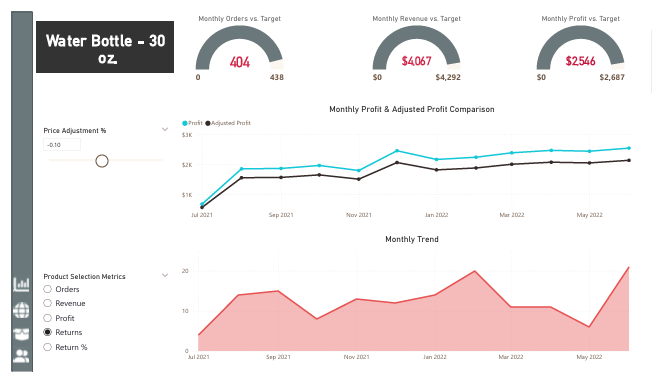

The dashboard page shown, as its layout file describes it:
{"tool":"powerbi","page":{"name":"Product Details","canvas":[1280,720],"ordinal":2},"visuals":[{"type":"areaChart","title":"Monthly Trend","fields":{"Y":["_Measure Table.Total Returns"],"Category":["Calendar Lookup.Start of Month"]},"box":[335.5,444.5,930,263.6],"z":0},{"type":"slicer","fields":{"Values":["Product Selection Metrics.Product Selection Metrics"]},"box":[50,516.4,274.5,191.8],"z":1000},{"type":"card","fields":{"Values":["Min(Product Lookup.Product Name)"]},"box":[50,20,274.5,102.7],"z":2000},{"type":"shape","box":[0,0,41,720],"z":3000},{"type":"gauge","title":"Monthly Orders vs. Target","fields":{"Y":["_Measure Table.Total Orders"],"MaxValue":["_Measure Table.Target Orders"]},"box":[335.5,6.4,240.9,144.5],"z":4000},{"type":"gauge","title":"Monthly Revenue vs. Target","fields":{"MaxValue":["_Measure Table.Target Revenue"],"Y":["_Measure Table.Total Revenue"]},"box":[689.1,6.4,240.9,144.5],"z":5000},{"type":"gauge","title":"Monthly Profit vs. Target","fields":{"Y":["_Measure Table.Profit"],"MaxValue":["_Measure Table.Target Profits"]},"box":[1017.3,6.4,240.9,144.5],"z":6000},{"type":"slicer","fields":{"Values":["Price Adjustment %.Price Adjustment %"]},"box":[50,223.6,275.5,165.5],"z":7000},{"type":"lineChart","title":"Monthly Profit & Adjusted Profit Comparison","fields":{"Category":["Calendar Lookup.Start of Month"],"Y":["_Measure Table.Profit","_Measure Table.Adjusted Profit"]},"box":[335.5,183.6,930,240.9],"z":8000},{"type":"group","id":"g1","title":"Page Navigation Icon","box":[0,525.5,40.9,182.7],"z":9000},{"type":"actionButton","box":[0,525.5,40.9,40],"z":21000,"group":"g1"},{"type":"actionButton","box":[0,578.2,40.9,40],"z":22000,"group":"g1"},{"type":"actionButton","box":[0,625.5,40.9,40],"z":23000,"group":"g1"},{"type":"actionButton","box":[0,668.2,40.9,40],"z":24000,"group":"g1"}]}

Visuals, with their boxes on the page's 1280x720 design canvas (x1, y1, x2, y2). These are canvas units, not pixel positions in the 663x383 screenshot, which may show the page scaled, cropped or inside an application window:
"Monthly Trend" areaChart: <region>336, 444, 1266, 708</region>
slicer - Product Selection Metrics.Product Selection Metrics: <region>50, 516, 324, 708</region>
card - Min(Product Lookup.Product Name): <region>50, 20, 324, 123</region>
shape: <region>0, 0, 41, 720</region>
"Monthly Orders vs. Target" gauge: <region>336, 6, 576, 151</region>
"Monthly Revenue vs. Target" gauge: <region>689, 6, 930, 151</region>
"Monthly Profit vs. Target" gauge: <region>1017, 6, 1258, 151</region>
slicer - Price Adjustment %.Price Adjustment %: <region>50, 224, 326, 389</region>
"Monthly Profit & Adjusted Profit Comparison" lineChart: <region>336, 184, 1266, 424</region>
"Page Navigation Icon" group: <region>0, 526, 41, 708</region>
actionButton: <region>0, 526, 41, 566</region>
actionButton: <region>0, 578, 41, 618</region>
actionButton: <region>0, 626, 41, 666</region>
actionButton: <region>0, 668, 41, 708</region>
